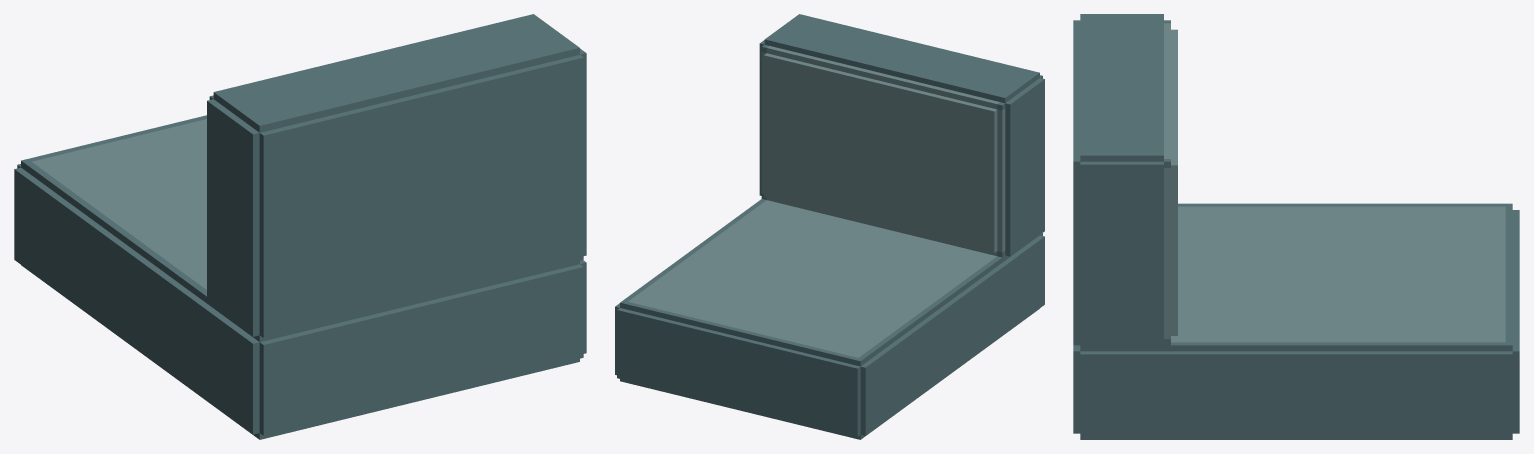
3 renders of one model, left to right at view 1: azimuth 30°, elevation 25°; view 2: azimuth 150°, elevation 25°; view 3: azimuth 270°, elevation 25°, orthographic. The views are drawn at different scales.
Visible parts, largest first — view 1: 扶手椅软垫; view 2: 扶手椅软垫; view 3: 扶手椅软垫.
Part boxes in pixels (x1,y1,x2,y2): 扶手椅软垫: (14, 14, 586, 439); 扶手椅软垫: (615, 14, 1044, 439); 扶手椅软垫: (1073, 14, 1519, 439).
Bounding box in the file's own units: 0.5 × 0.45 × 0.64.
Materials: 2 (2 with a texture image).
